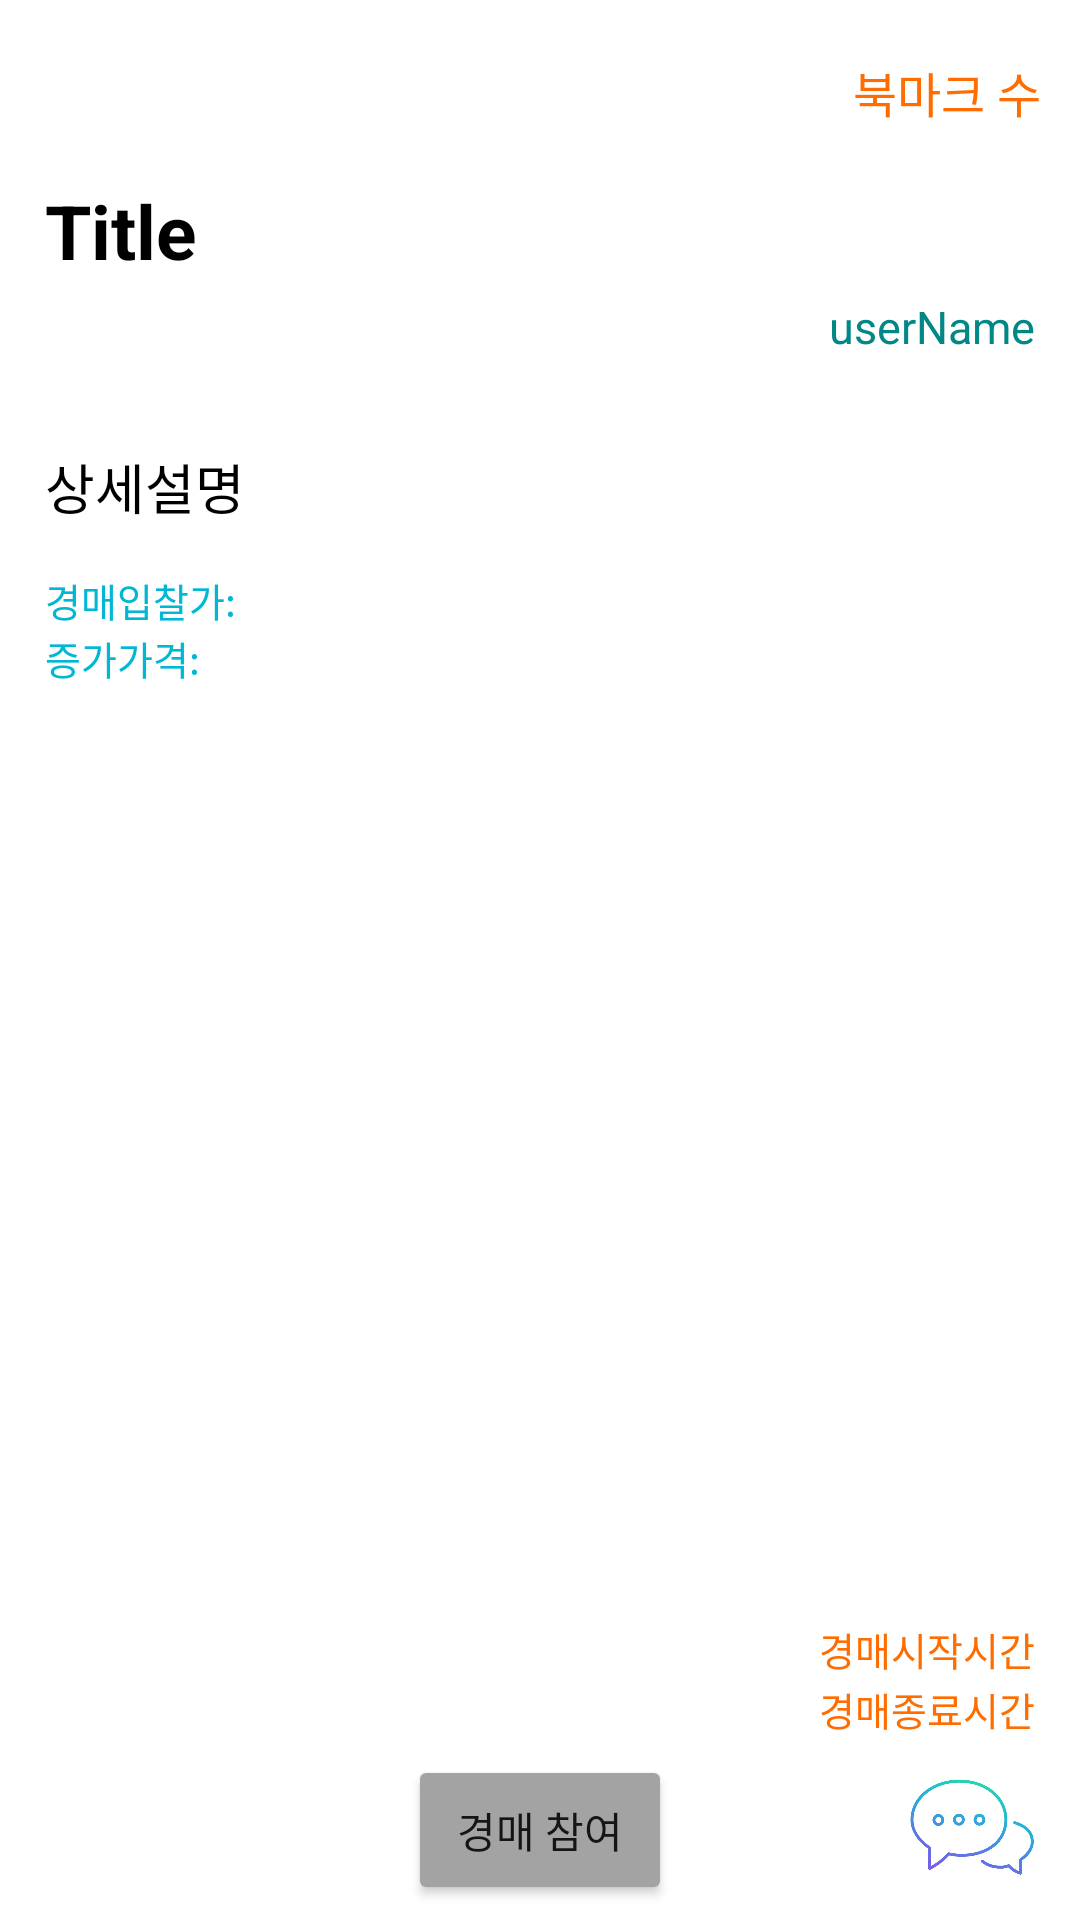

Named icons in this screenshot (1080*1920) and their centers, [x,y]:
chat: [972,1827]
